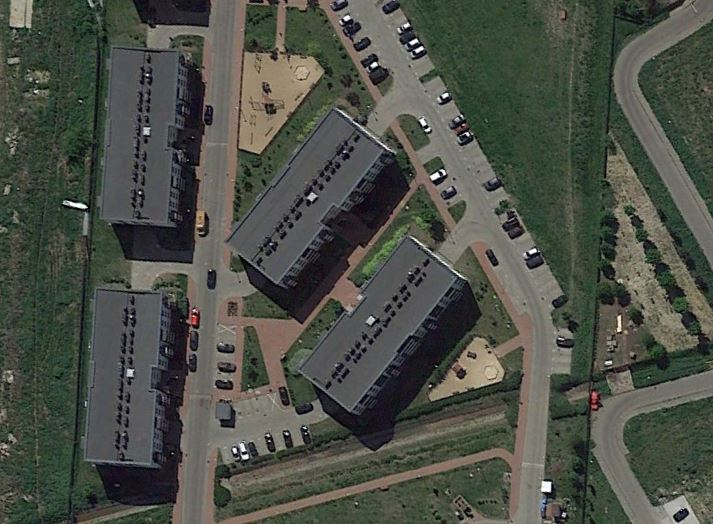block of flats: (218, 103, 401, 291), (290, 235, 478, 417), (77, 280, 183, 476), (90, 41, 197, 231)
